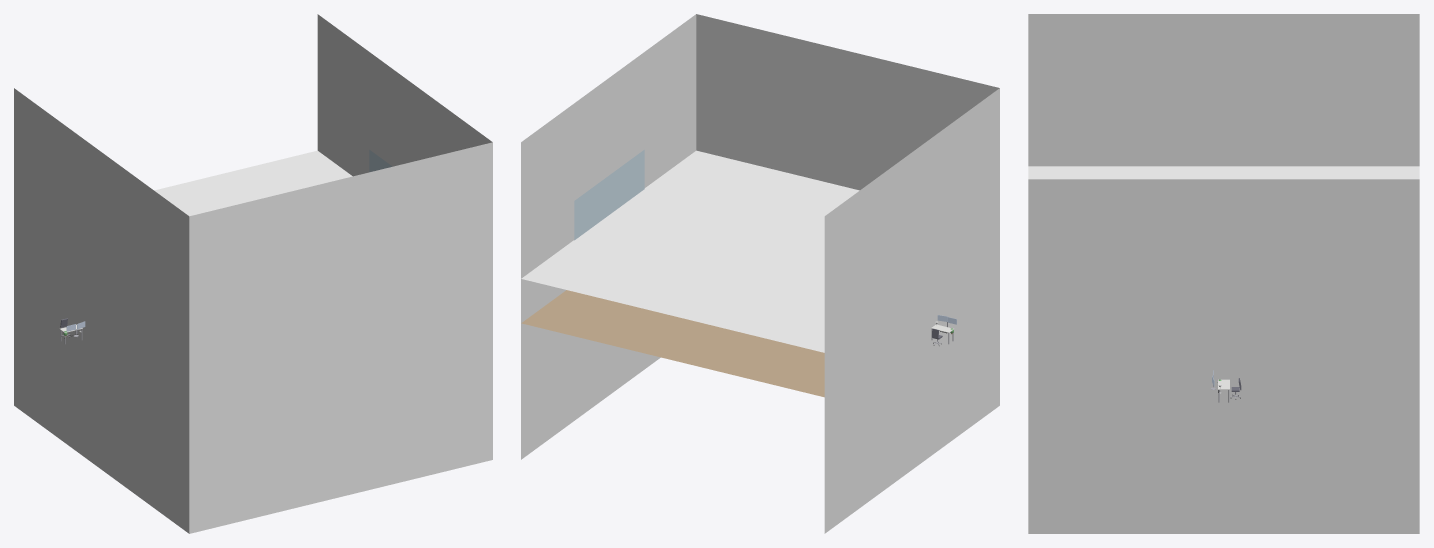
Rendered from office_5person.glb.
3 renders of one model, left to right at view 1: azimuth 30°, elevation 25°; view 2: azimuth 150°, elevation 25°; view 3: azimuth 270°, elevation 25°, orthographic. The views are drawn at different scales.
Parts seen in each view (by area): view 1: Back_Wall, Left_Wall, Right_Wall, Ceiling; view 2: Left_Wall, Ceiling, Right_Wall, Back_Wall, Floor, Window_Glass; view 3: Right_Wall, Left_Wall, Ceiling.
Boxes of the visible parts, x1,y1,x2,y2 form: Back_Wall: [189, 142, 492, 533]; Left_Wall: [14, 88, 189, 533]; Right_Wall: [317, 14, 492, 176]; Ceiling: [154, 150, 352, 216]; Left_Wall: [824, 88, 999, 533]; Ceiling: [521, 150, 859, 352]; Right_Wall: [521, 14, 696, 459]; Back_Wall: [696, 14, 999, 190]; Floor: [521, 290, 824, 397]; Window_Glass: [574, 149, 644, 240]; Right_Wall: [1028, 179, 1419, 533]; Left_Wall: [1028, 14, 1419, 166]; Ceiling: [1028, 166, 1419, 179].
Bounding box in the file's own units: 25.24 × 20 × 20.
